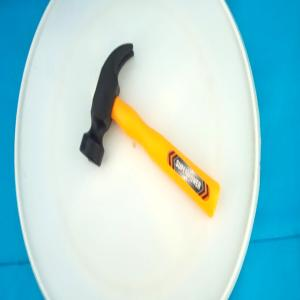martelo: (79, 42, 221, 218)
